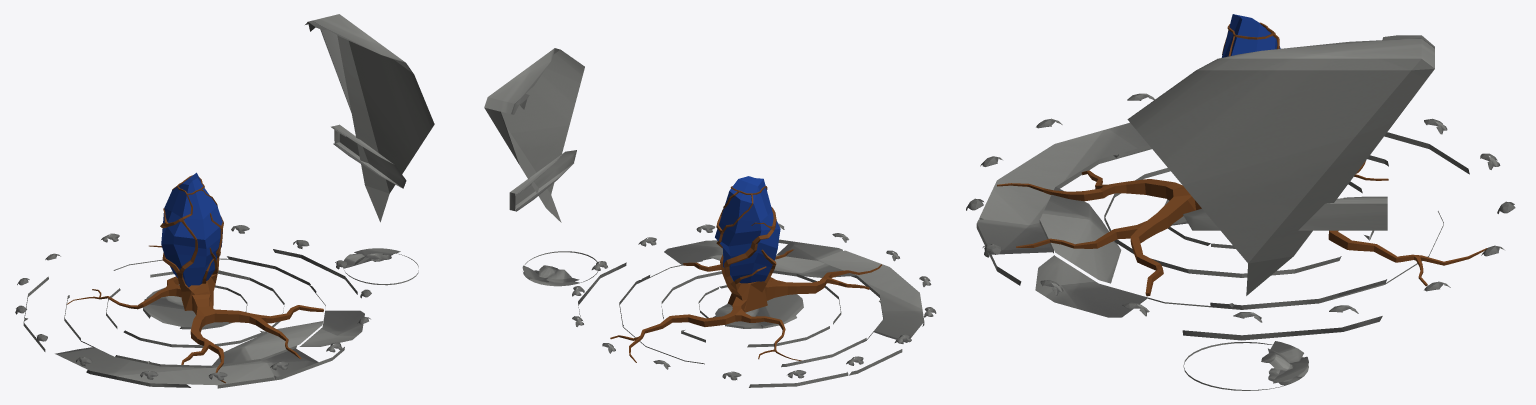
The model's file is altarSTONE.fbx.
3 renders of one model, left to right at view 1: azimuth 30°, elevation 25°; view 2: azimuth 150°, elevation 25°; view 3: azimuth 270°, elevation 25°, orthographic. The views are drawn at different scales.
Parts seen in each view (by area): view 1: Circle, Cube, crystal, root, crystalTree, Cube.001, Cylinder; view 2: Circle, Cube, crystal, root, crystalTree, Cube.001, Cylinder; view 3: Cube, Circle, root, Cube.001, Cylinder, crystal.
Boxes of the visible parts, x1,y1,x2,y2 form: Circle: (23,249,364,388); Cube: (305,14,434,222); crystal: (161,172,222,287); root: (66,245,323,383); crystalTree: (160,175,223,310); Cube.001: (331,124,406,188); Cylinder: (343,248,418,285); Circle: (578,239,924,387); Cube: (484,48,584,222); crystal: (715,176,780,283); root: (610,249,881,362); crystalTree: (716,186,776,312); Cube.001: (509,150,576,211); Cylinder: (522,251,598,286); Cube: (1127,35,1434,295); Circle: (976,122,1469,340); root: (997,161,1487,296); Cube.001: (1183,196,1387,230); Cylinder: (1183,341,1308,390); crystal: (1221,14,1280,57).
Size of the model in its own units: 1066 by 570 by 888.
